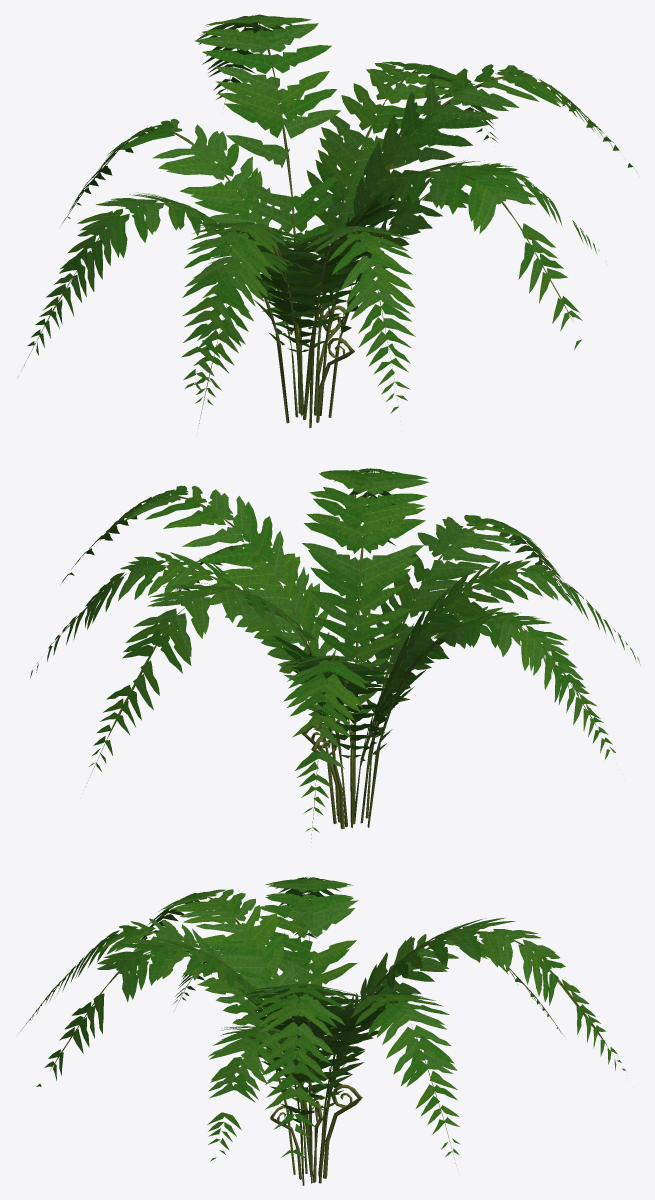
Rendered from fern_small.glb.
3 views of the same model, one above another, from view 1: azimuth 30°, elevation 25°; view 2: azimuth 150°, elevation 25°; view 3: azimuth 270°, elevation 25° (orthographic). The views are drawn at different scales.
Parts seen in each view (by area): view 1: fern_small_fern_a, fern_small_fern_b, fern_small_fern_c, fern_small_stem, fern_small_crozier; view 2: fern_small_fern_a, fern_small_fern_c, fern_small_fern_b, fern_small_stem, fern_small_crozier; view 3: fern_small_fern_a, fern_small_fern_c, fern_small_fern_b, fern_small_stem, fern_small_crozier.
Boxes of the visible parts, x1=… form: fern_small_fern_a: x1=31, y1=14, x2=618, y2=403; fern_small_fern_b: x1=35, y1=22, x2=632, y2=404; fern_small_fern_c: x1=27, y1=15, x2=636, y2=413; fern_small_stem: x1=18, y1=17, x2=607, y2=428; fern_small_crozier: x1=294, y1=301, x2=354, y2=422; fern_small_fern_a: x1=37, y1=468, x2=640, y2=771; fern_small_fern_c: x1=31, y1=469, x2=632, y2=832; fern_small_fern_b: x1=30, y1=468, x2=615, y2=798; fern_small_stem: x1=52, y1=471, x2=599, y2=842; fern_small_crozier: x1=301, y1=724, x2=353, y2=828; fern_small_fern_a: x1=36, y1=877, x2=625, y2=1150; fern_small_fern_c: x1=30, y1=877, x2=621, y2=1157; fern_small_fern_b: x1=32, y1=877, x2=611, y2=1161; fern_small_stem: x1=20, y1=889, x2=607, y2=1185; fern_small_crozier: x1=270, y1=1084, x2=362, y2=1182.
Bounding box in the file's own units: 0.912 × 0.4376 × 0.923.
5 materials, 3 textured.
